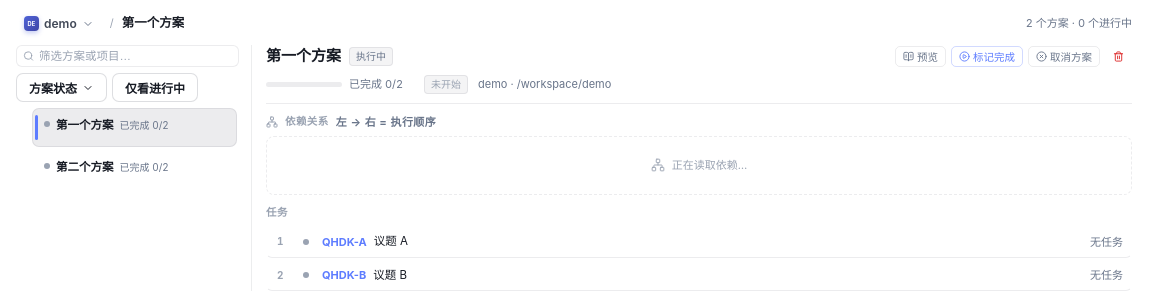
Test: PlanBoard — 专注单方案的看板 › 点左栏切换到另一个方案，右栏跟着换
Click the button "第二个方案 已完成 0/2". click: (134, 170)
box: 32,150 -> 237,189
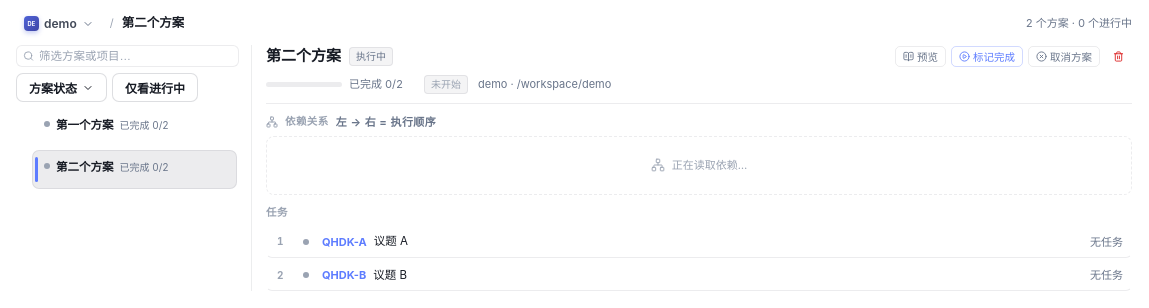
Now the element "第二个方案" is shown
